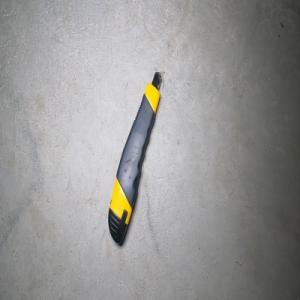Cutter: (107, 70, 162, 245)
